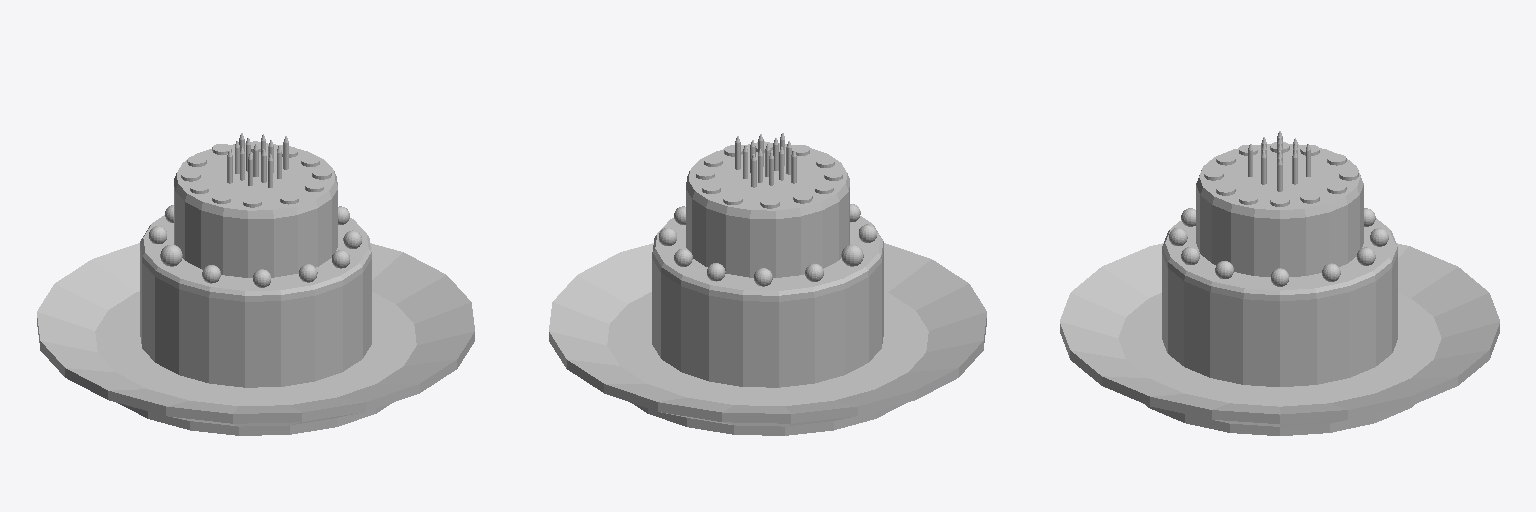
File: cake.obj
3 renders of one model, left to right at view 1: azimuth 30°, elevation 25°; view 2: azimuth 150°, elevation 25°; view 3: azimuth 270°, elevation 25°, orthographic.
Parts seen in each view (by area): view 1: pCylinder1, pCylinder29; view 2: pCylinder1, pCylinder29; view 3: pCylinder1, pCylinder29.
Part boxes in pixels (x1,y1,x2,y2): pCylinder1: (140,143,371,387); pCylinder29: (37,243,474,435); pCylinder1: (652,143,883,387); pCylinder29: (549,243,986,435); pCylinder1: (1162,144,1397,386); pCylinder29: (1060,243,1499,435).
Bounding box in the file's own units: 4.17 × 2.34 × 4.17.